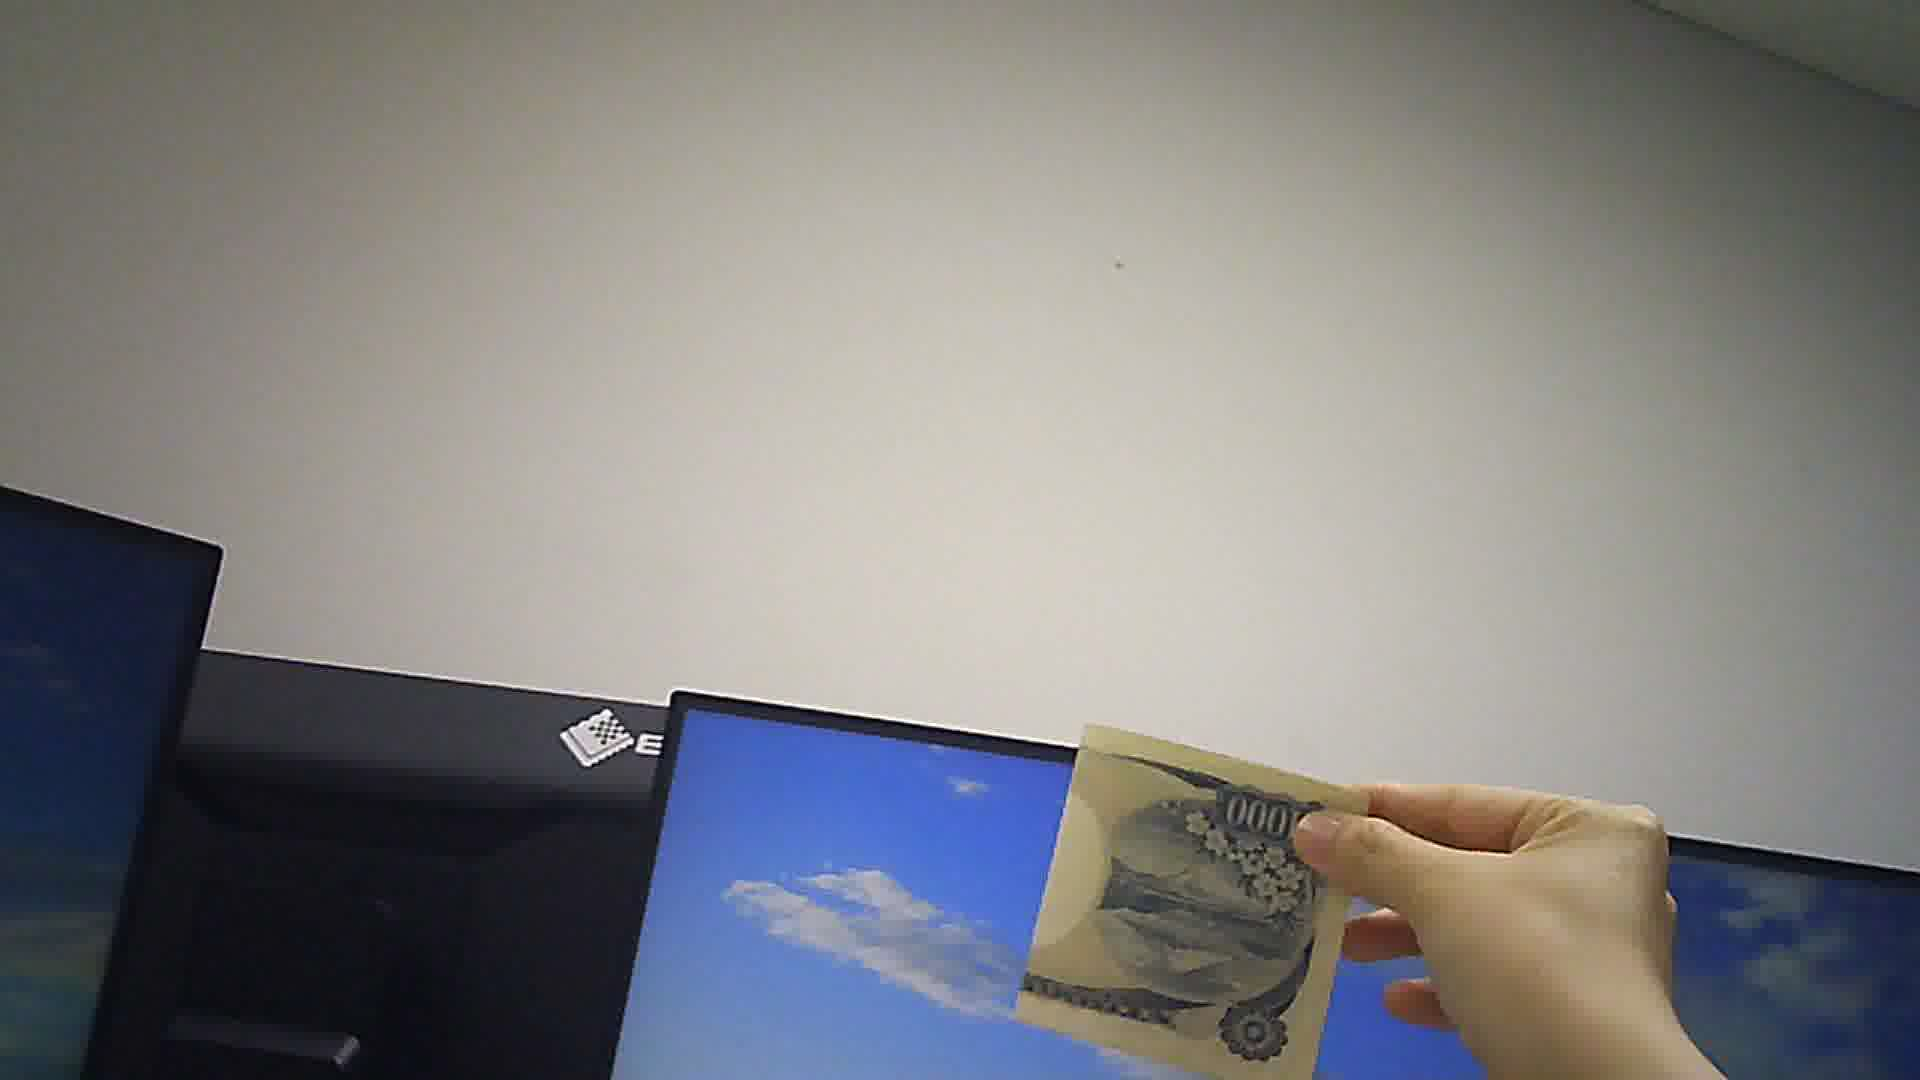1,000 Yen: (1014, 716, 1367, 1064)
